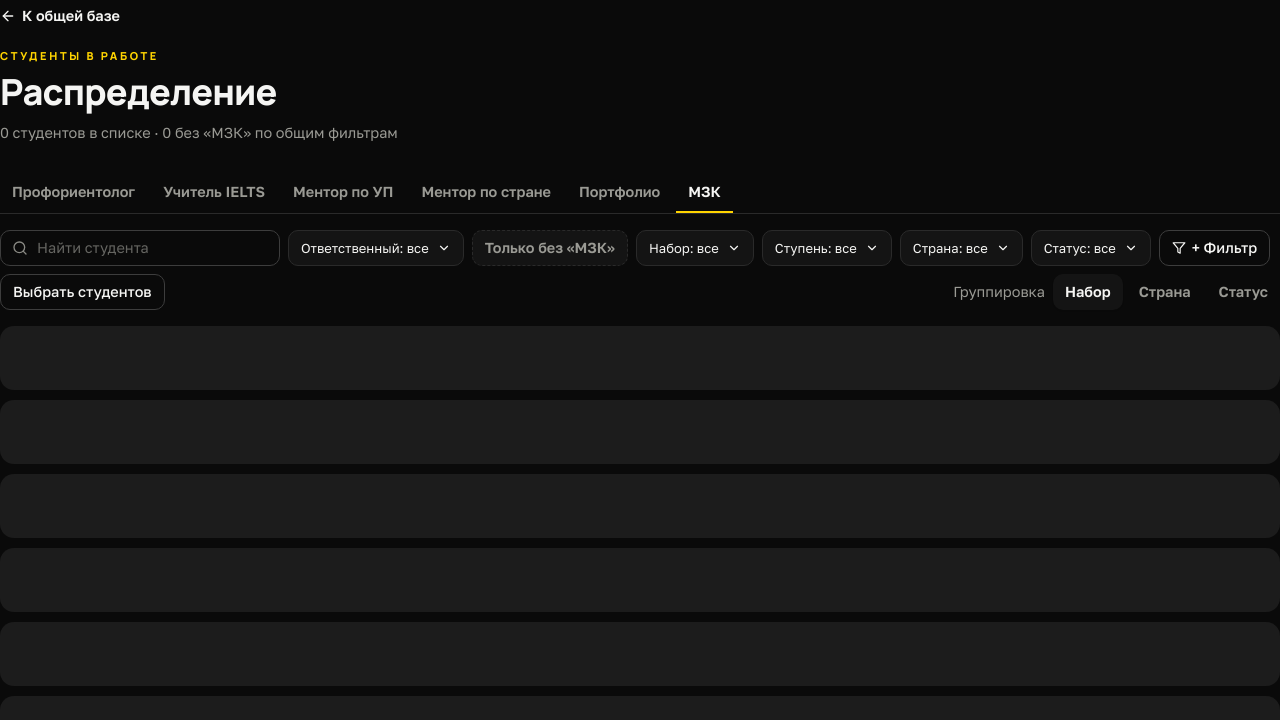
Scenario: список распределения › поиск оставляет совпадающих нераспределённых студентов
The image size is (1280, 720).
Type "Дана" into the field with placeholder "Найти студента" at (140, 248), box [0,230,280,266]
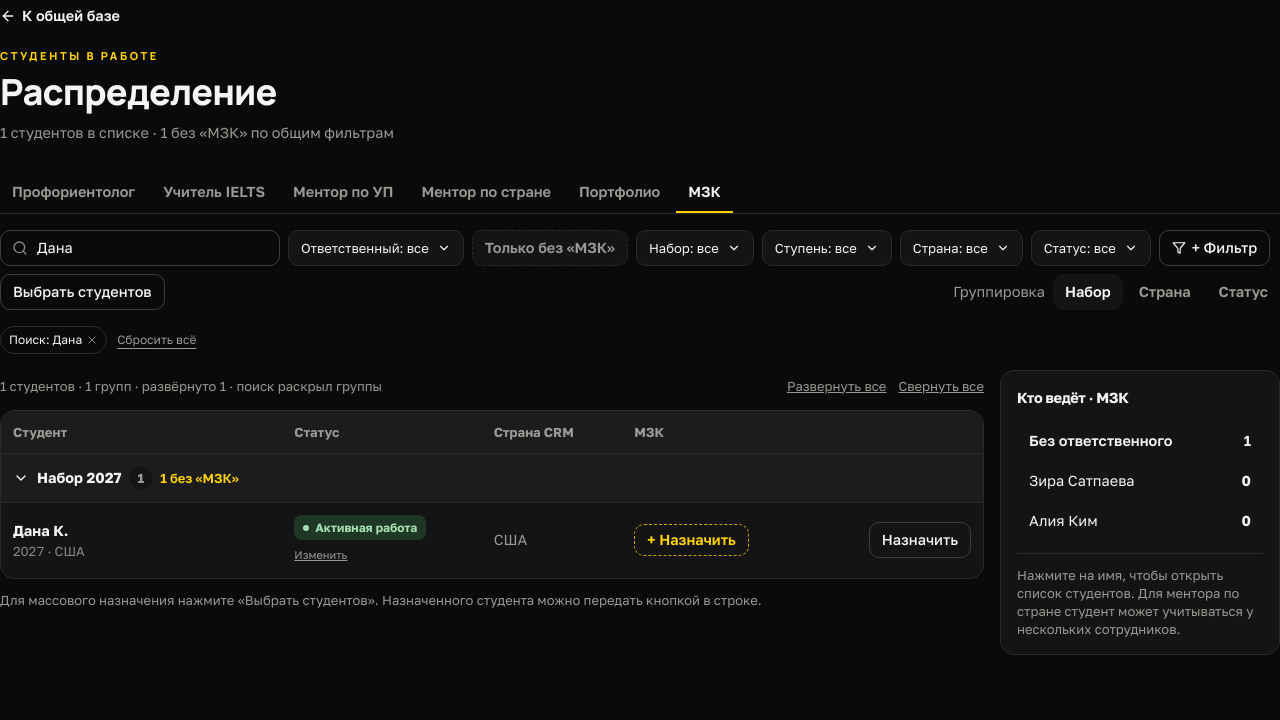
Expected: the link "Дана К." is shown, [13,522,68,539]
